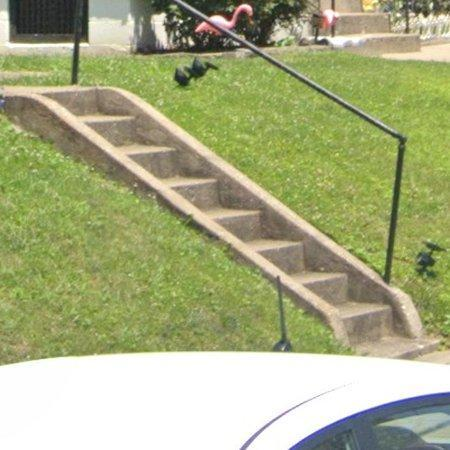stairs: (0, 87, 437, 357)
